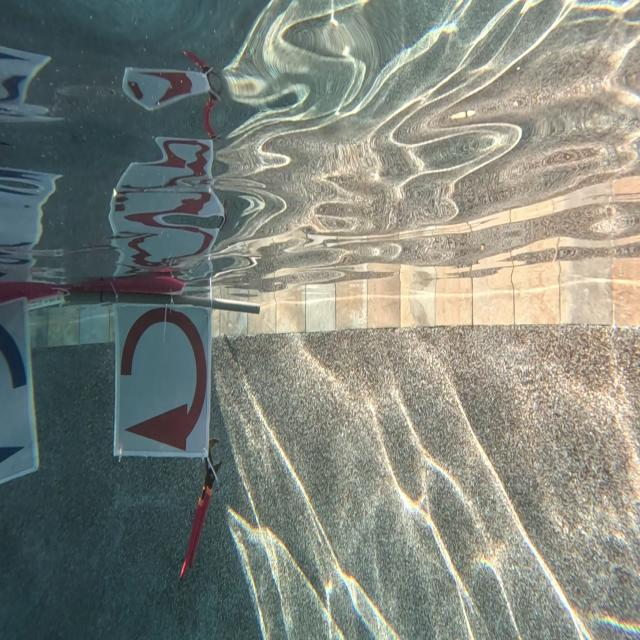blue_side: (0, 290, 32, 472)
red_side: (115, 307, 209, 452)
